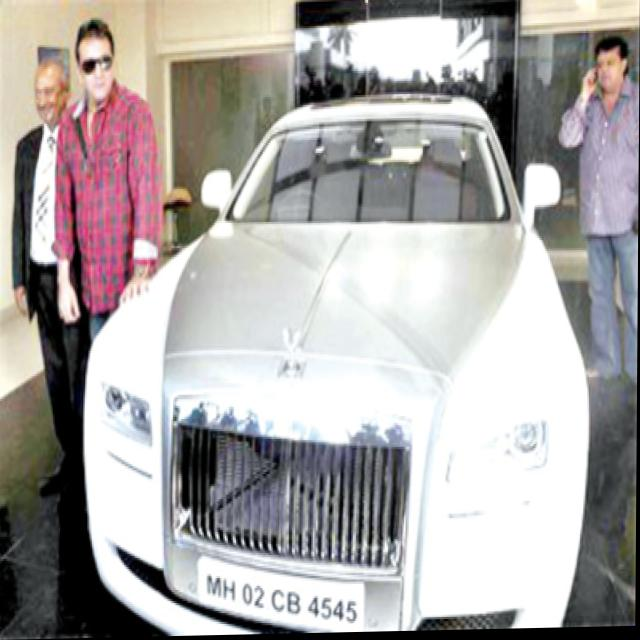licence: (201, 561, 366, 630)
